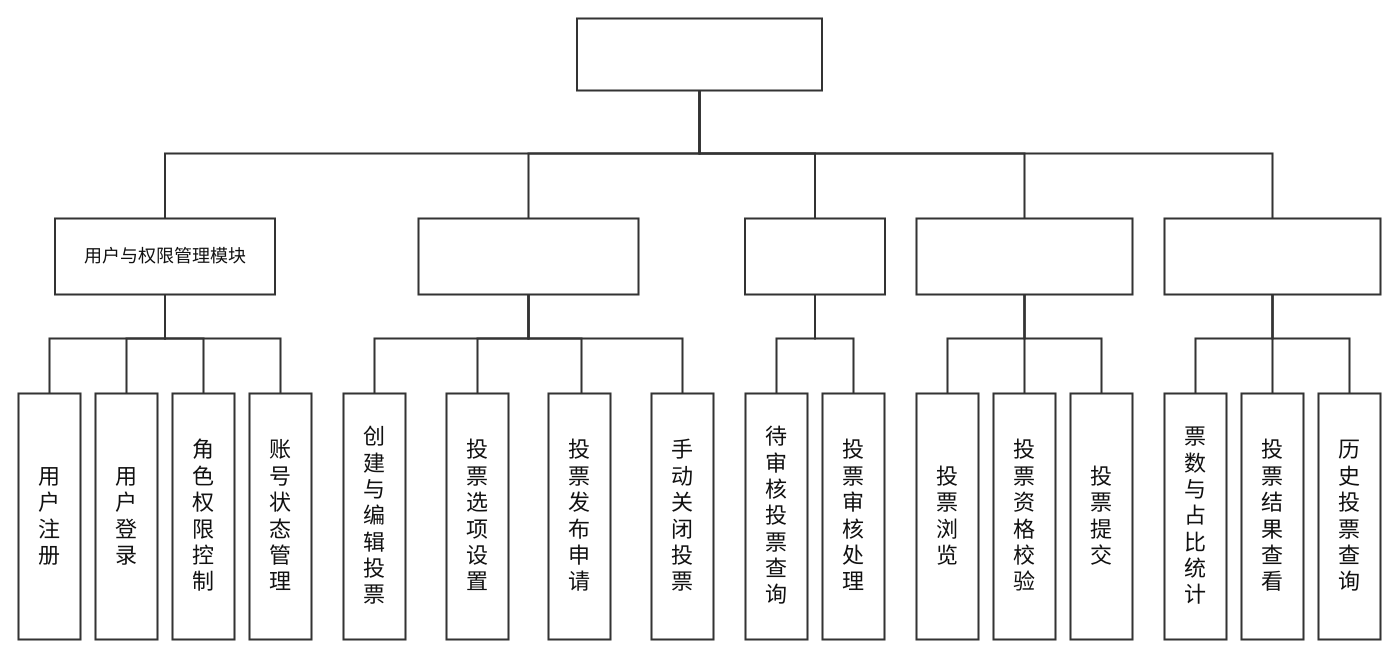
Image size: 1398x657. Some labels were removed from this diagram. Here are the shapes that lost their labels. From the top down, the centre of each, then its label:
At pixel 699 54: "投票统计系统".
At pixel 528 256: "投票创建与管理模块".
At pixel 815 256: "投票审核管理 模块".
At pixel 1024 256: "投票参与管理模块".
At pixel 1272 256: "统计与历史查询模块".
